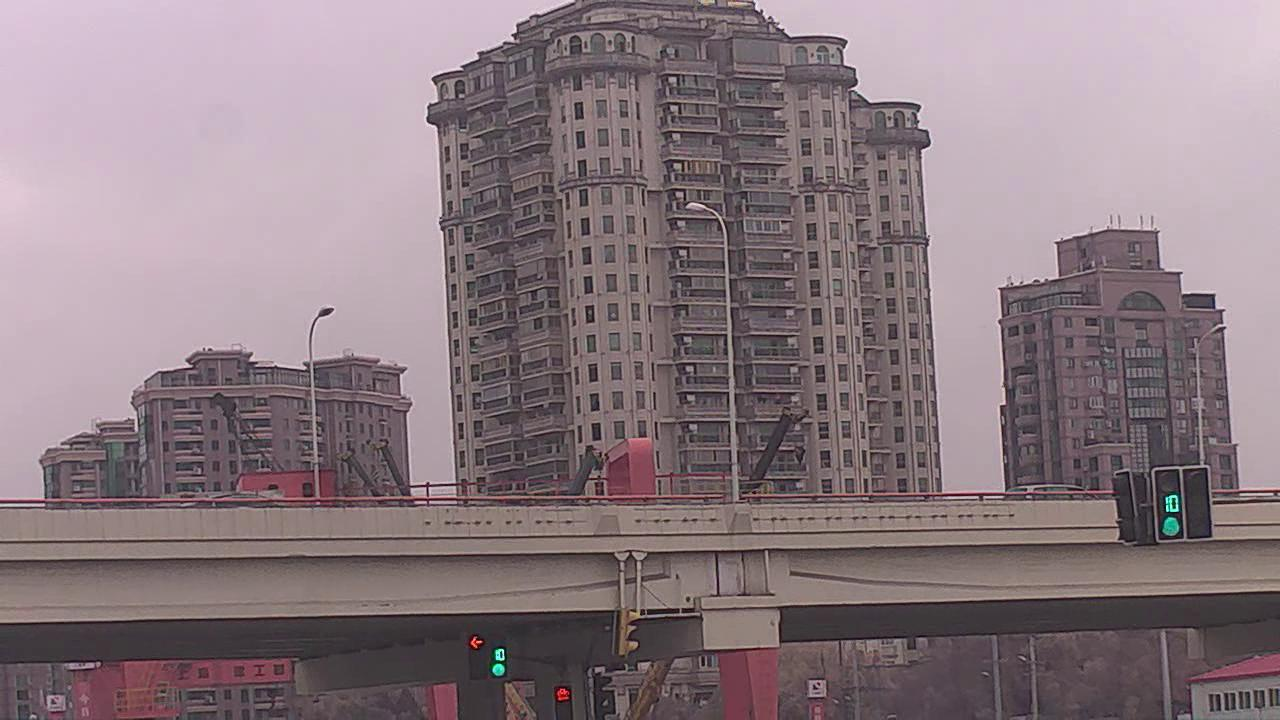traffic_light: (1151, 466, 1186, 543), (1181, 466, 1213, 541), (468, 631, 489, 682), (489, 632, 509, 680), (555, 686, 573, 719)
